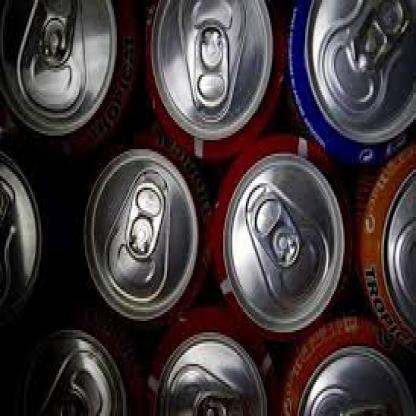METAL: (205, 131, 352, 348), (70, 126, 208, 326), (136, 0, 286, 163), (284, 0, 414, 161), (0, 0, 138, 147), (141, 300, 276, 414), (12, 305, 141, 414), (275, 314, 414, 414), (350, 140, 414, 353), (0, 145, 56, 332)
